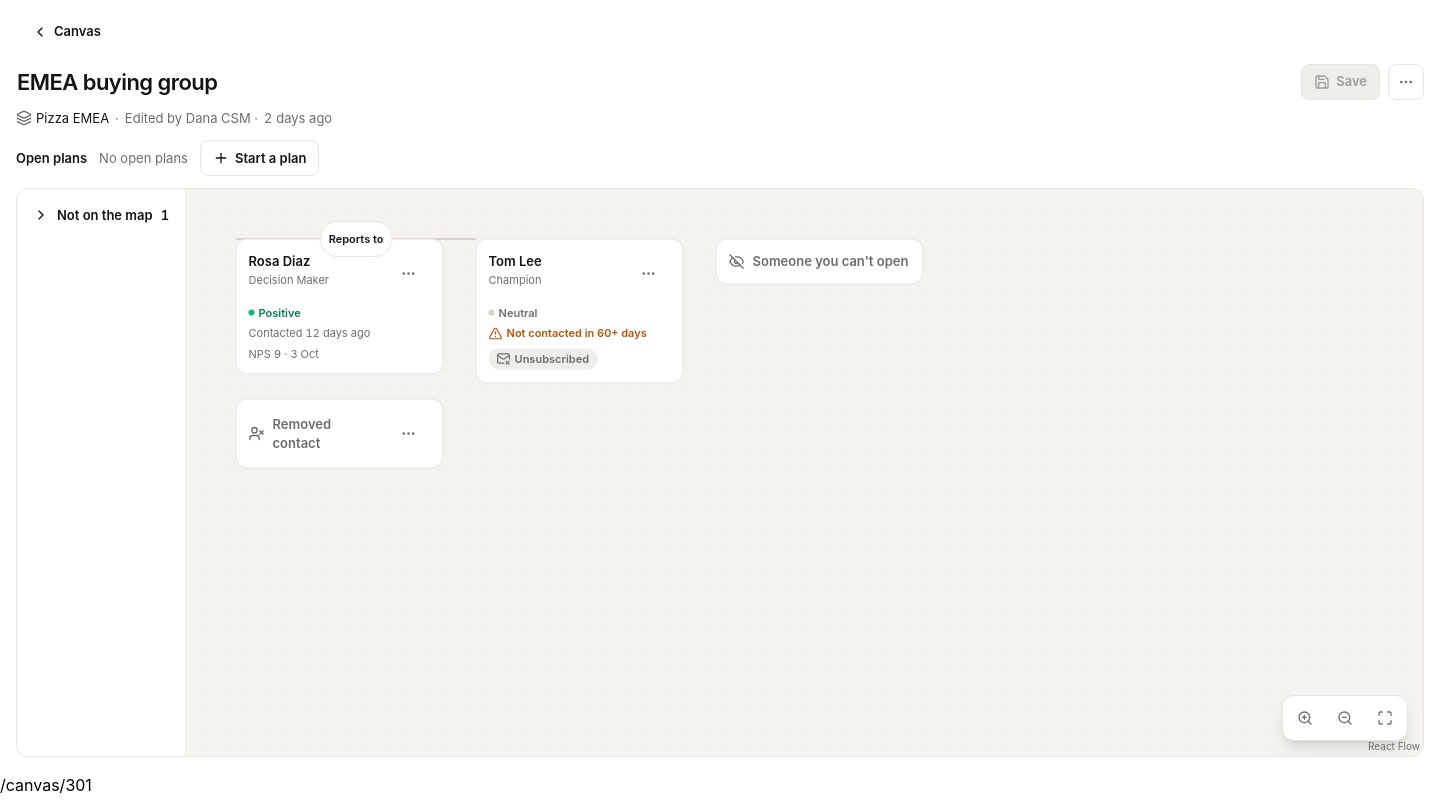
Test: MapEditor: every edit without dragging (spec §2.2) › refuses a duplicate relationship with a status line
Click the button named "Actions for Rosa Diaz" at (408, 274), box [386, 252, 430, 296]
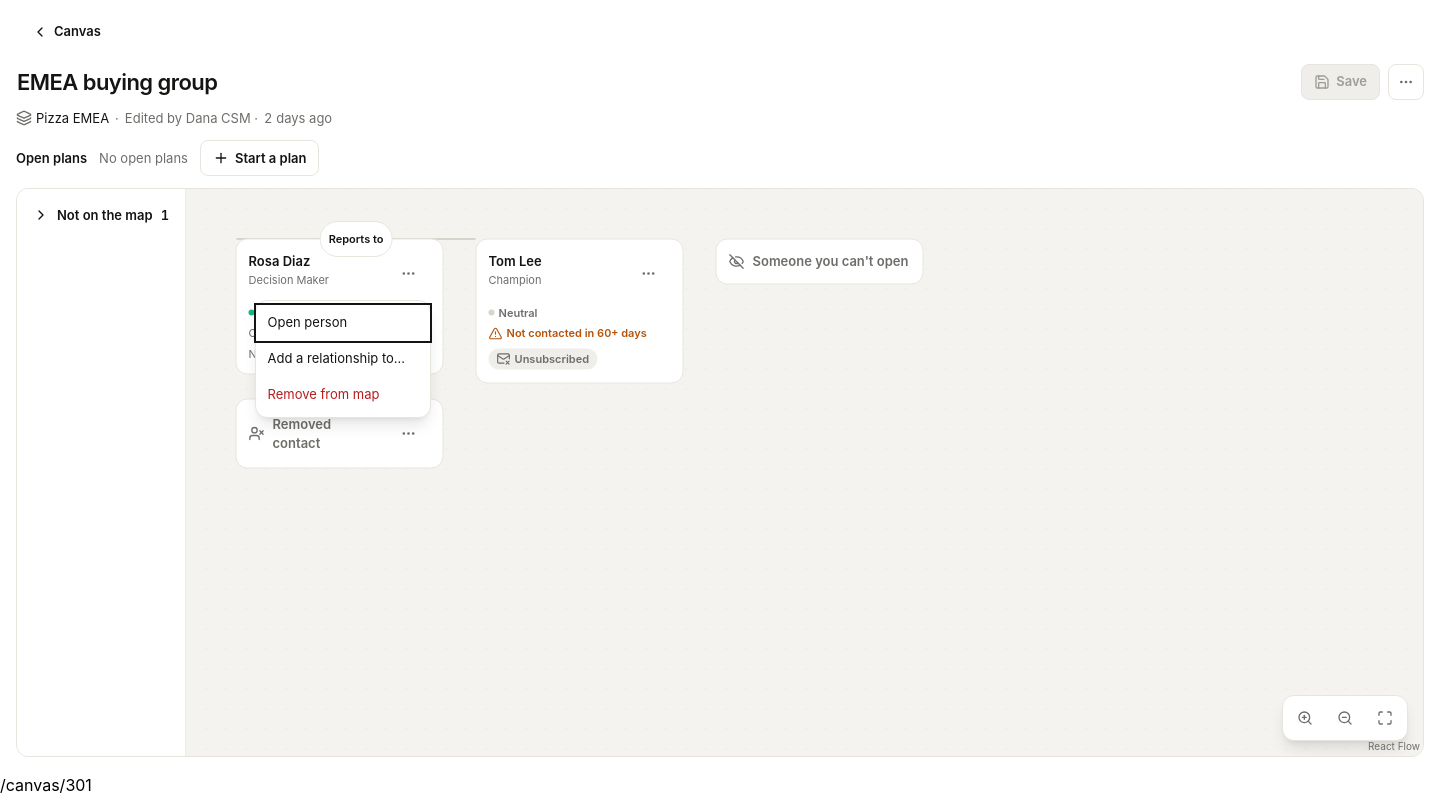
Click the menu item "Add a relationship to…" at (342, 358), box [256, 340, 430, 376]
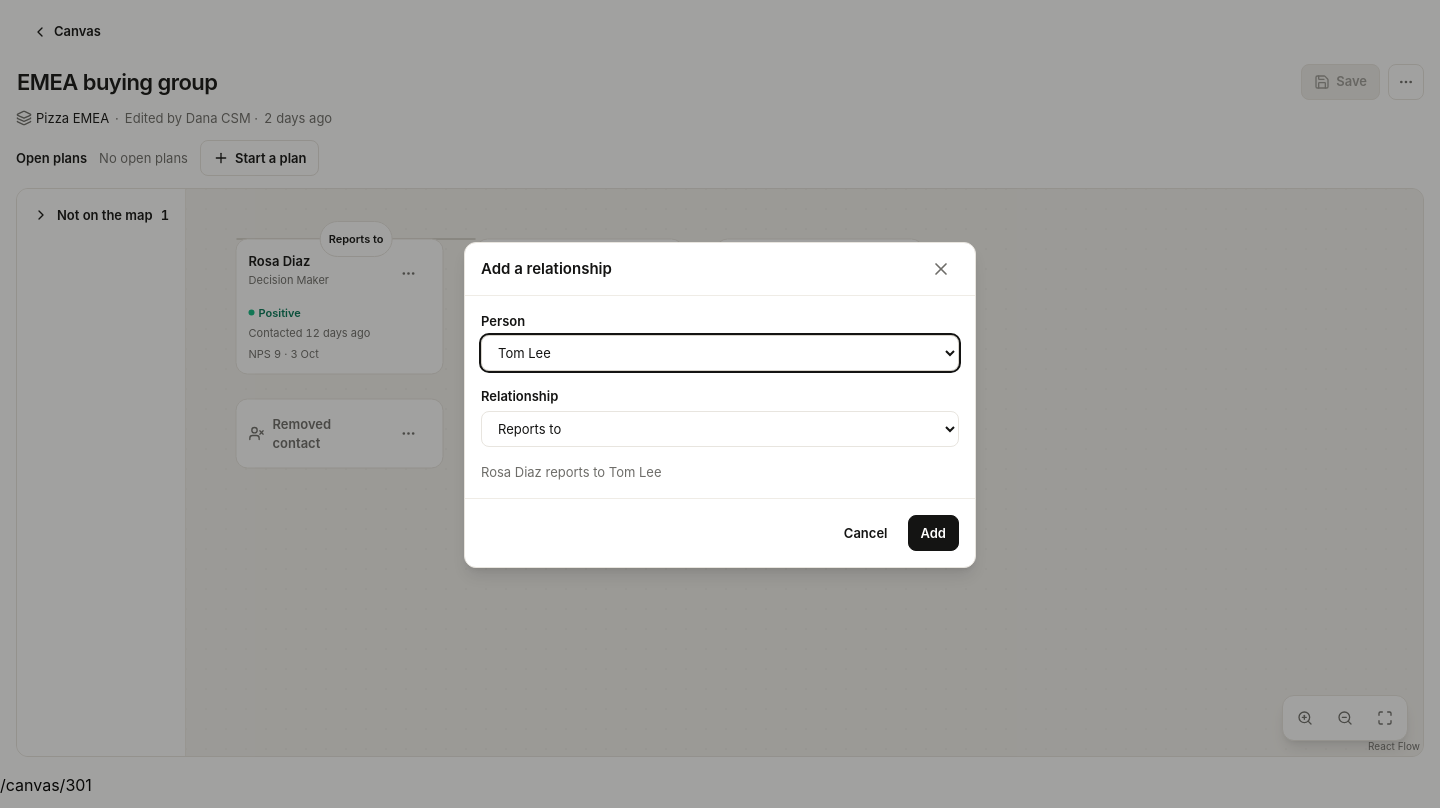
Select "Tom Lee" in the dropdown labelled "Person" at (720, 353), box [481, 335, 959, 371]
Select "Reports to" in the dropdown labelled "Relationship" at (720, 429), box [481, 411, 959, 447]
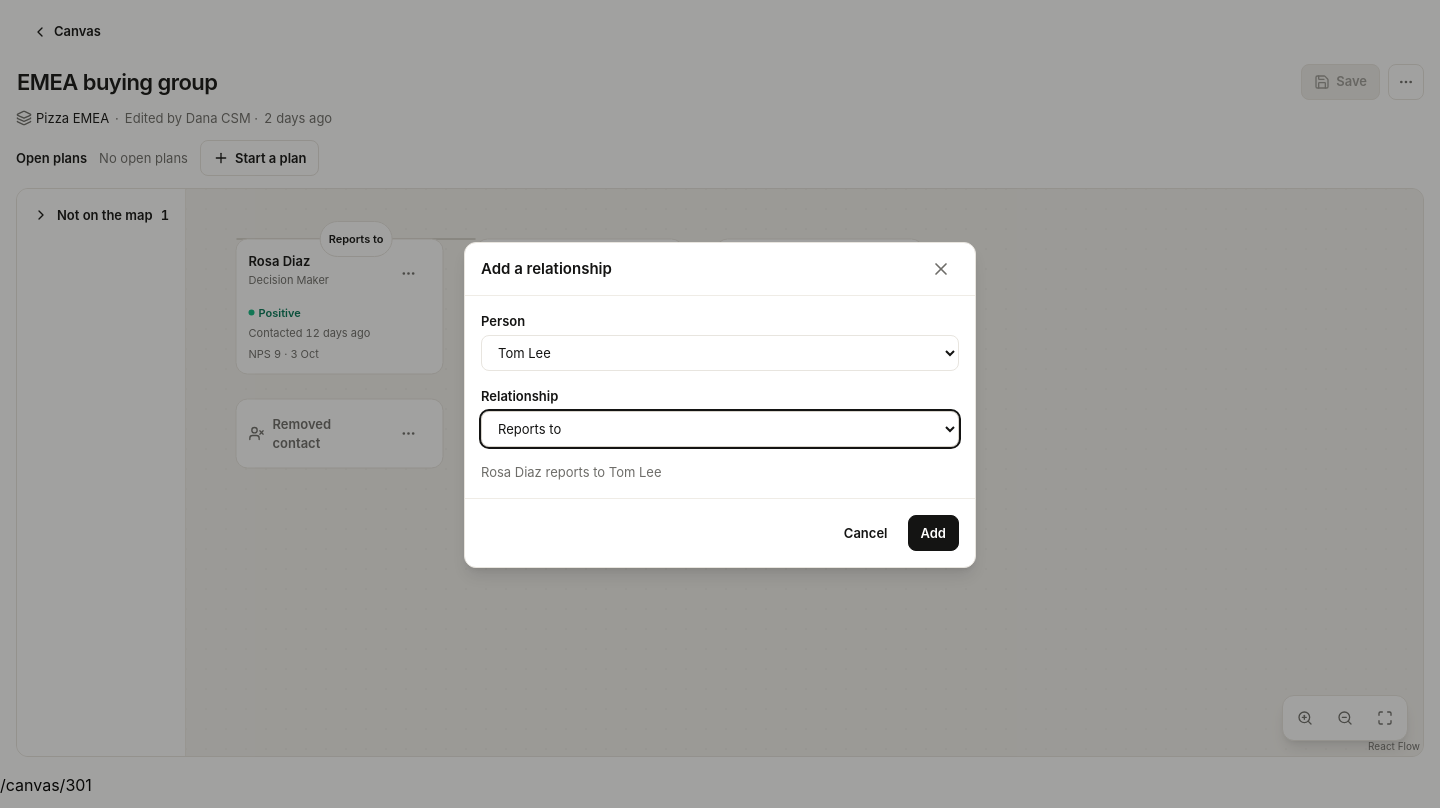
Click the button "Add" at (933, 533), box [908, 515, 959, 551]
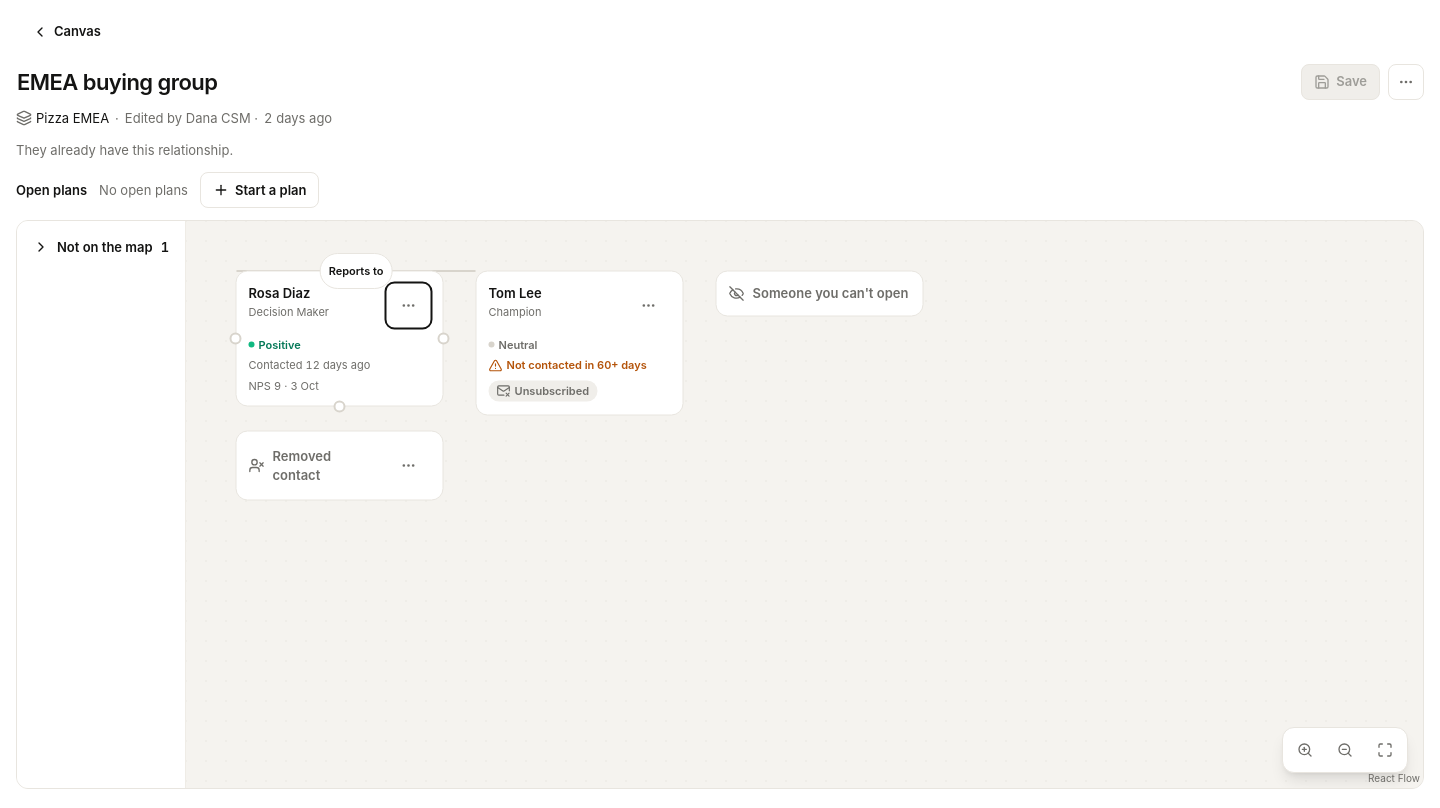
Check: the text "They already have this relationship." is shown, box [16, 142, 233, 158]
